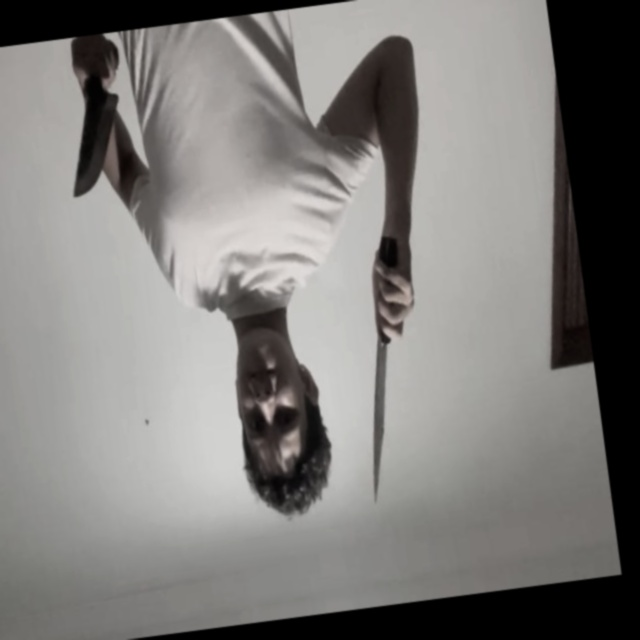Sharp-Object: (353, 339, 405, 505), (62, 95, 130, 200)
